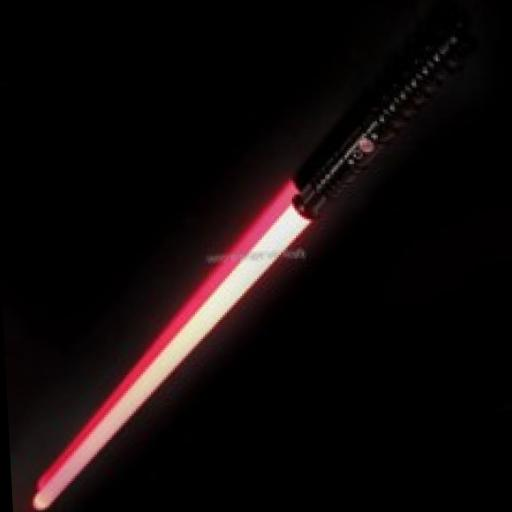sith saber: (11, 14, 482, 509)
